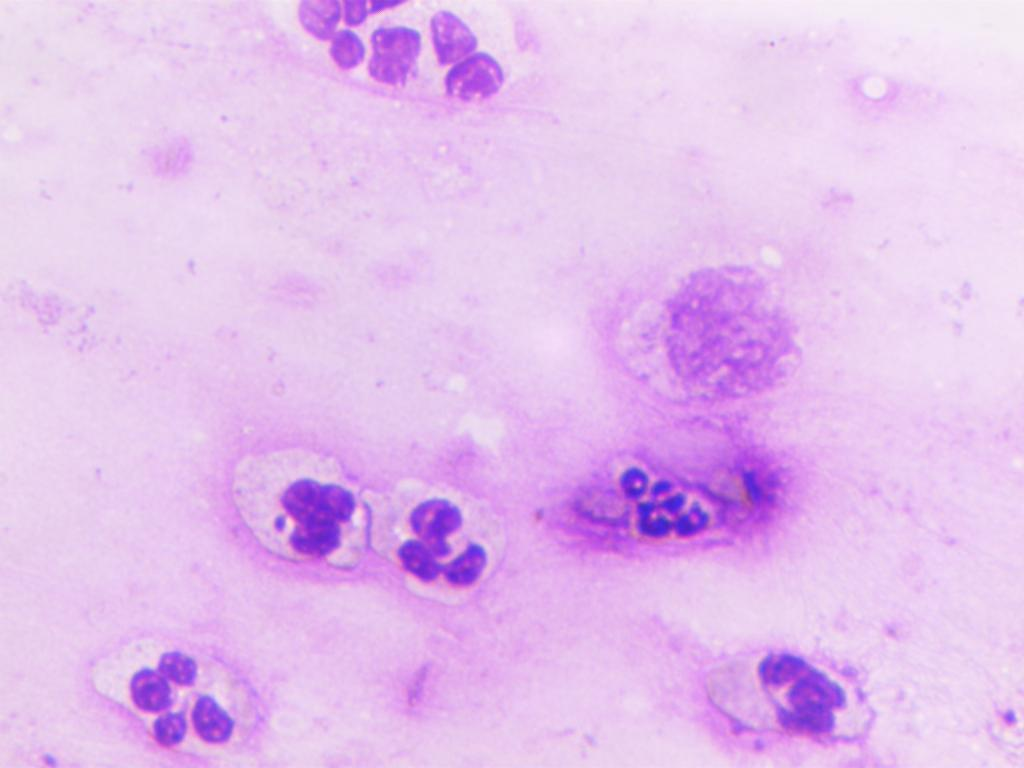epithelial: (637, 251, 800, 409)
neutrophil: (268, 0, 527, 120), (70, 627, 304, 756), (370, 461, 518, 617), (731, 632, 898, 754), (228, 430, 368, 574), (594, 438, 717, 562)
